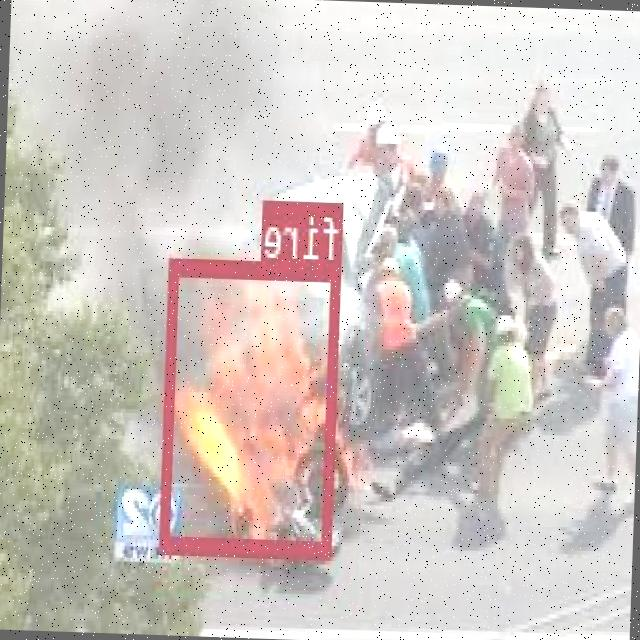fire: (160, 256, 342, 554)
